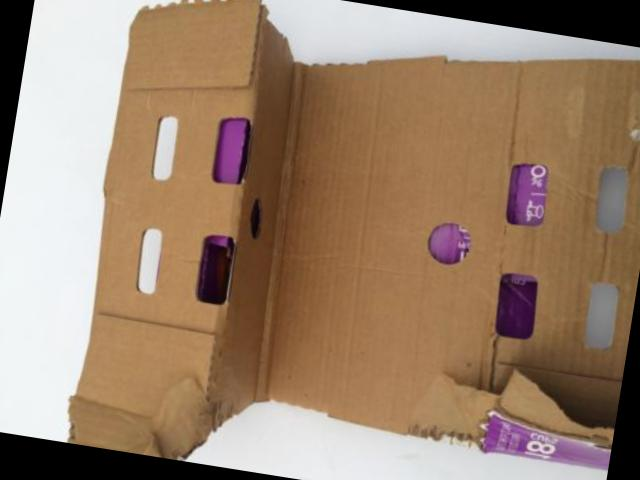cardboard paper: (67, 0, 640, 460)
